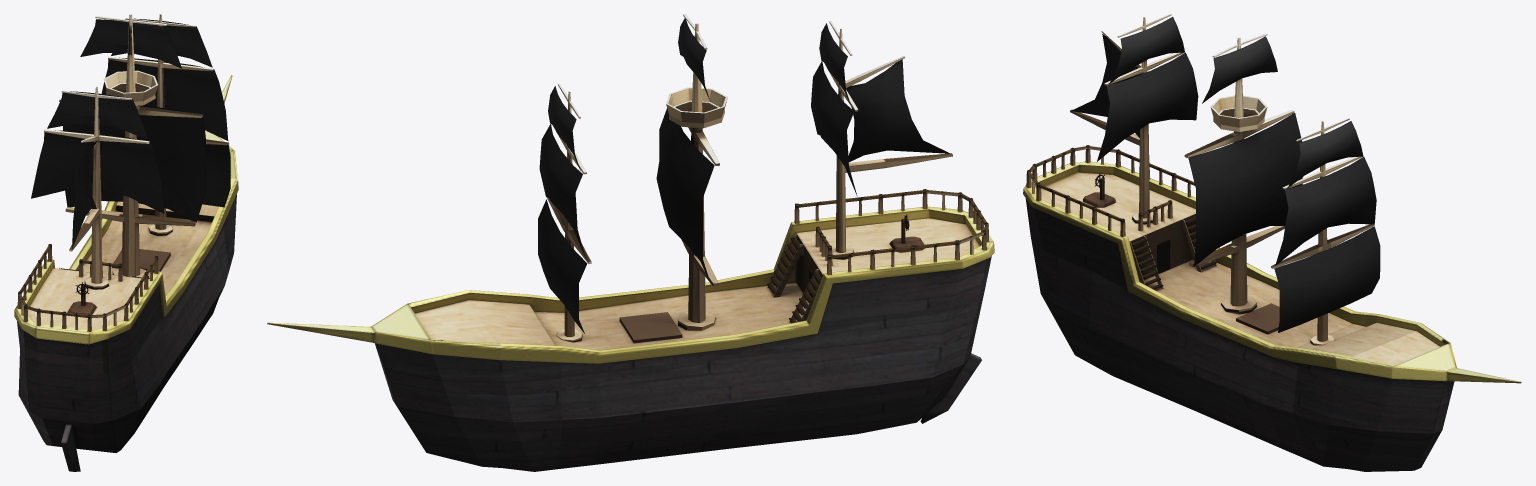
The picture shows the model from 3 angles, left to right: view 1: azimuth 30°, elevation 25°; view 2: azimuth 150°, elevation 25°; view 3: azimuth 270°, elevation 25°; orthographic projection. The views are drawn at different scales.
Parts seen in each view (by area): view 1: Ship; view 2: Ship; view 3: Ship.
Boxes of the visible parts, x1,y1,x2,y2 form: Ship: (14,14,238,471); Ship: (267,14,994,471); Ship: (1023,14,1521,471).
Size of the model in its own units: 182 by 154 by 182.
Materials: 1 (1 with a texture image).
